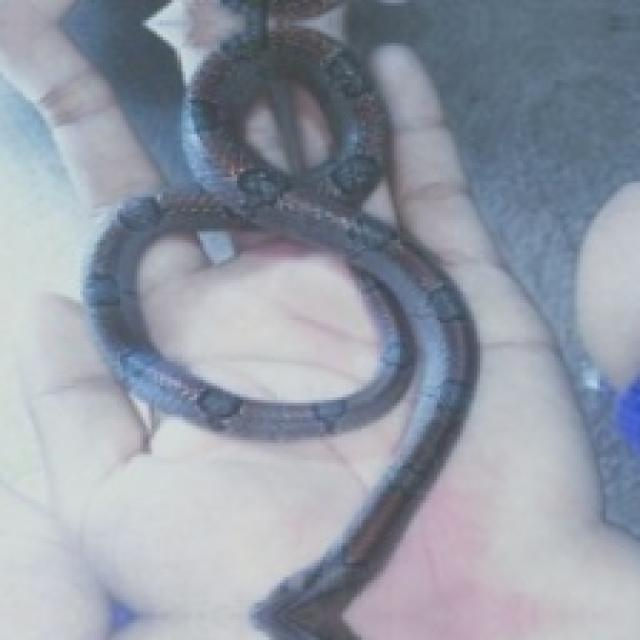northern short-headed snake: (63, 0, 474, 637), (134, 229, 383, 403)
